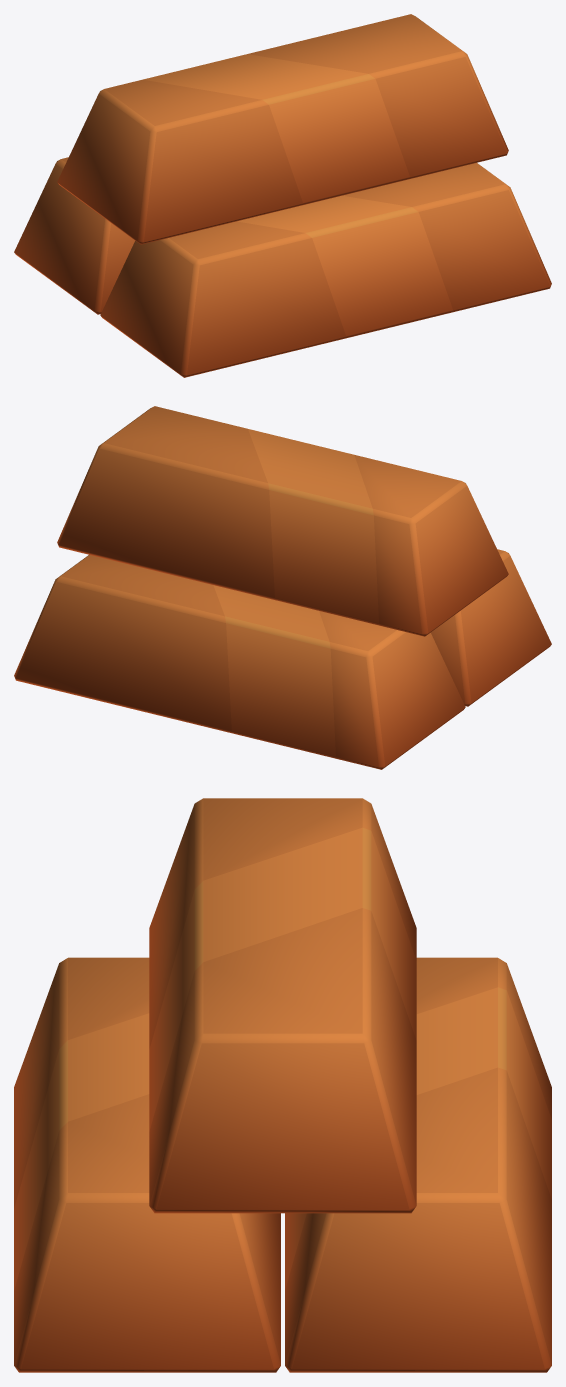
The model's file is Ingot_Copper_2.glb.
3 views of the same model, one above another, from view 1: azimuth 30°, elevation 25°; view 2: azimuth 150°, elevation 25°; view 3: azimuth 270°, elevation 25° (orthographic). The views are drawn at different scales.
Visible parts, largest first — view 1: Ingot_Coper_2; view 2: Ingot_Coper_2; view 3: Ingot_Coper_2.
Part boxes in pixels (box(x1,y1,x2,y2)): Ingot_Coper_2: box(14, 14, 551, 377); Ingot_Coper_2: box(14, 406, 551, 769); Ingot_Coper_2: box(14, 798, 551, 1372).
Bounding box in the file's own units: 0.994 × 0.516 × 0.7944.
